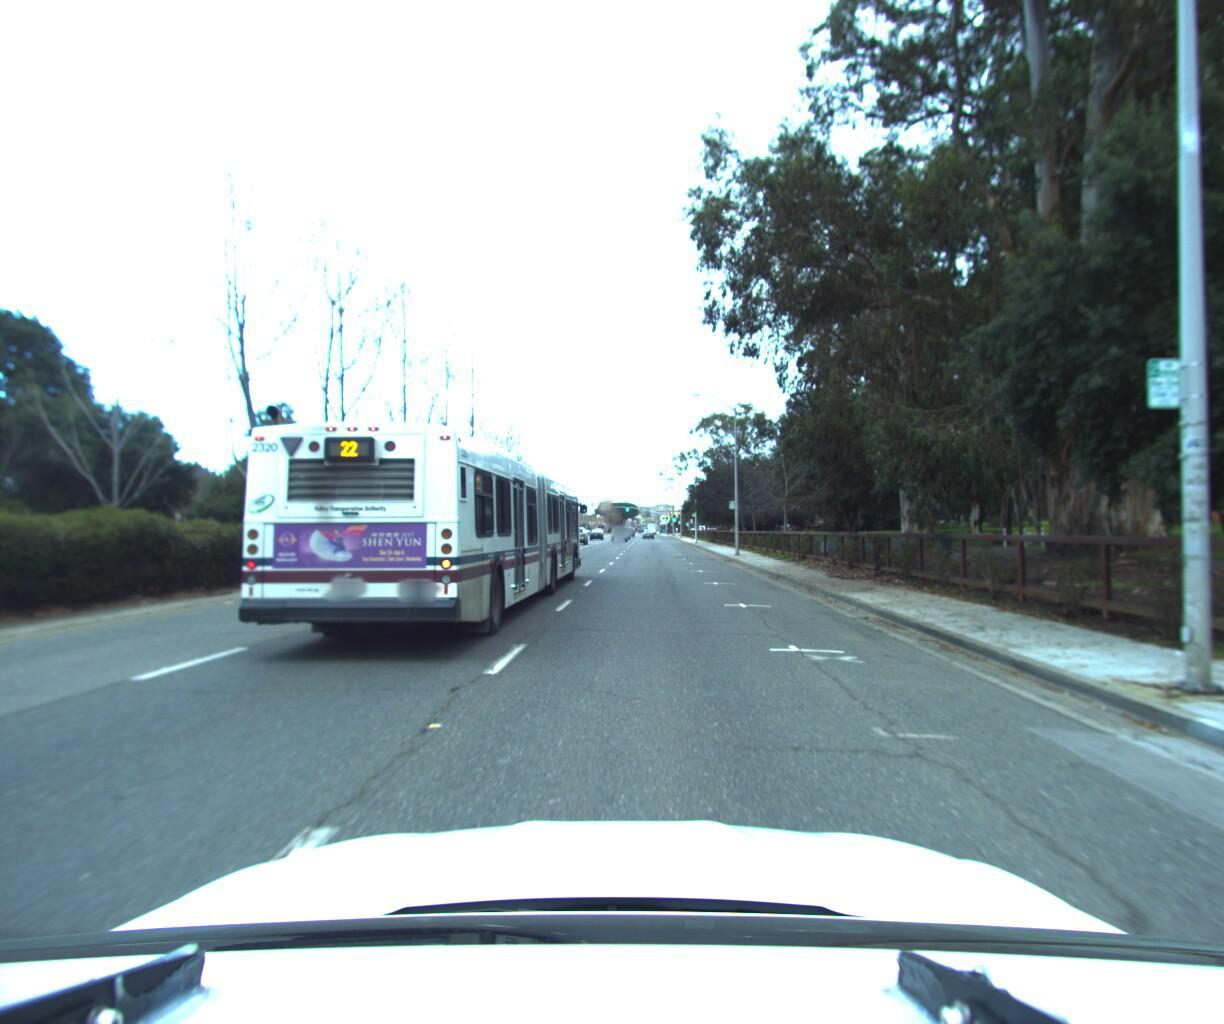bus: (221, 387, 591, 664)
